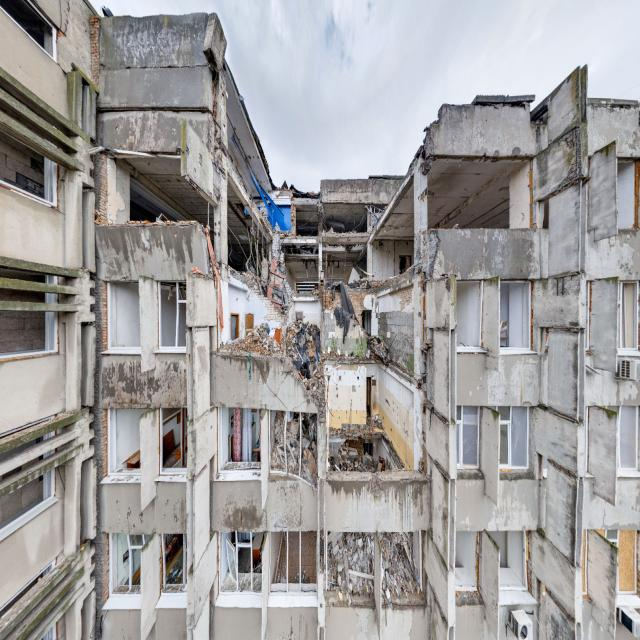broken_window: (105, 279, 142, 352), (499, 278, 532, 352), (156, 280, 187, 352), (455, 278, 483, 350), (160, 405, 187, 472), (456, 404, 480, 470)
building: (1, 3, 638, 637)
